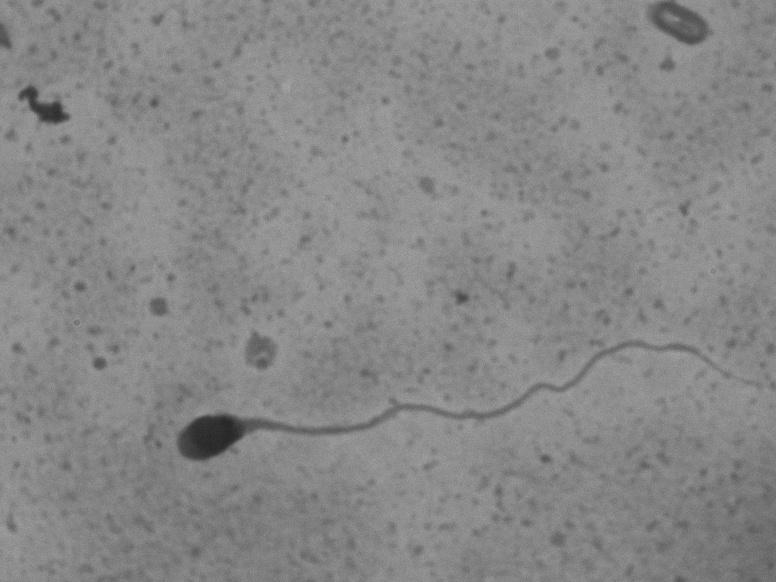Normal: (159, 321, 762, 478)
